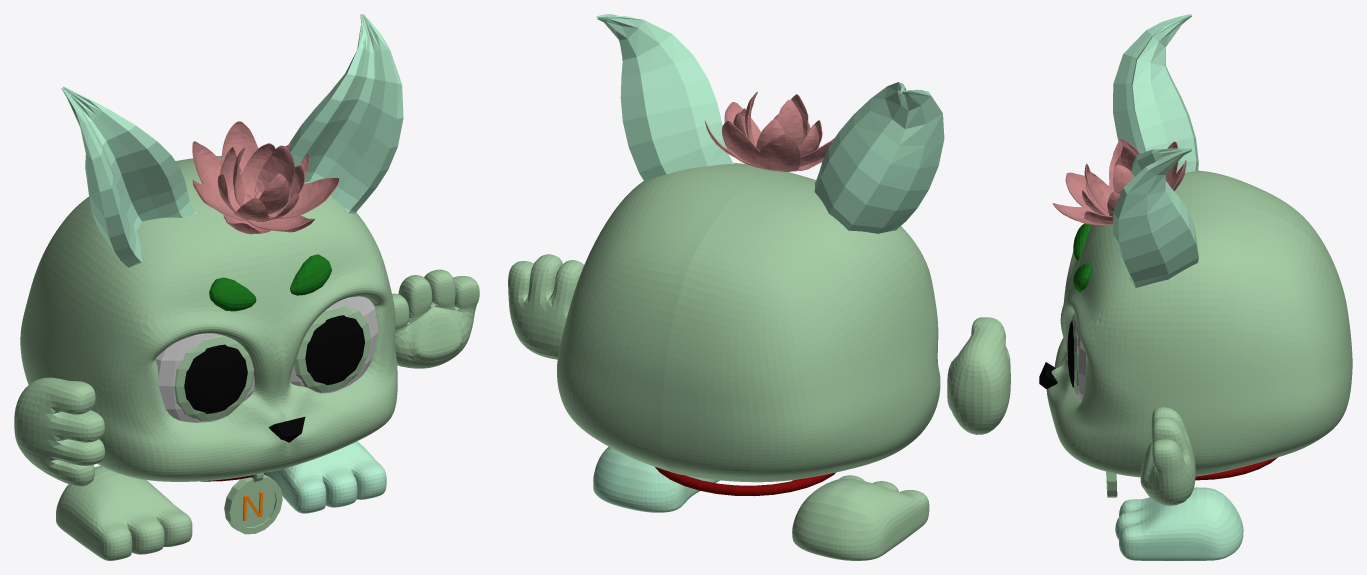
The picture shows the model from 3 angles, left to right: view 1: azimuth 30°, elevation 25°; view 2: azimuth 150°, elevation 25°; view 3: azimuth 270°, elevation 25°; orthographic projection. The views are drawn at different scales.
Visible parts, largest first — view 1: Subdivision_Surface_6, ears, Sphere, head_decor_005, rightFoot, rightHand, leftHand, leftFoot, Cylinder, eyes_brow_001, Nose; view 2: Subdivision_Surface_6, ears, rightFoot, rightHand, head_decor_005, leftHand, leftFoot, Torus; view 3: Subdivision_Surface_6, ears, leftFoot, leftHand, head_decor_005, Sphere, eyes_brow_001, Torus.
Boxes of the visible parts, x1,y1,x2,y2 form: Subdivision_Surface_6: (20, 156, 397, 481); ears: (61, 14, 403, 267); Sphere: (155, 296, 378, 422); head_decor_005: (192, 121, 339, 234); rightFoot: (56, 466, 192, 560); rightHand: (14, 377, 104, 486); leftHand: (392, 269, 479, 368); leftFoot: (264, 441, 386, 513); Cylinder: (224, 474, 282, 534); eyes_brow_001: (209, 254, 331, 311); Nose: (268, 417, 305, 442); Subdivision_Surface_6: (557, 163, 940, 482); ears: (596, 14, 944, 233); rightFoot: (792, 475, 929, 560); rightHand: (947, 317, 1010, 434); head_decor_005: (704, 91, 835, 171); leftHand: (508, 254, 584, 359); leftFoot: (593, 446, 719, 512); Torus: (655, 467, 835, 496); Subdivision_Surface_6: (1046, 170, 1352, 477); ears: (1113, 14, 1198, 287); leftFoot: (1115, 487, 1243, 560); leftHand: (1140, 407, 1195, 505); head_decor_005: (1052, 138, 1186, 224); Sphere: (1067, 313, 1086, 402); eyes_brow_001: (1073, 223, 1091, 291); Torus: (1195, 457, 1277, 480).
Size of the model in its own units: 152 by 140 by 94.78.
